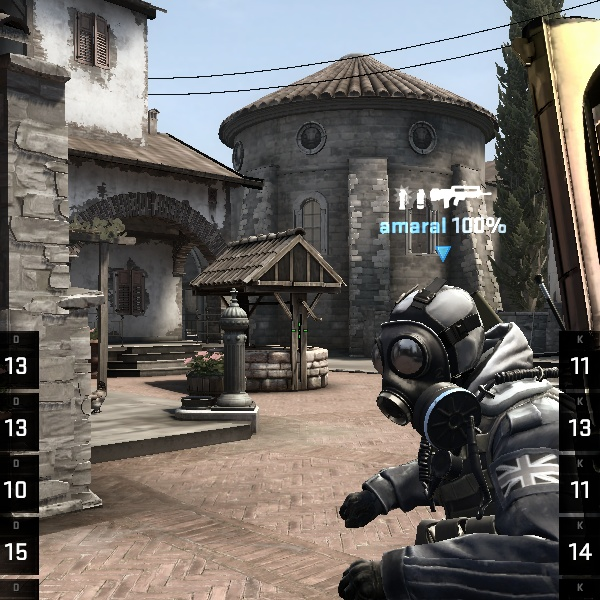ct_body: (308, 287, 583, 577)
